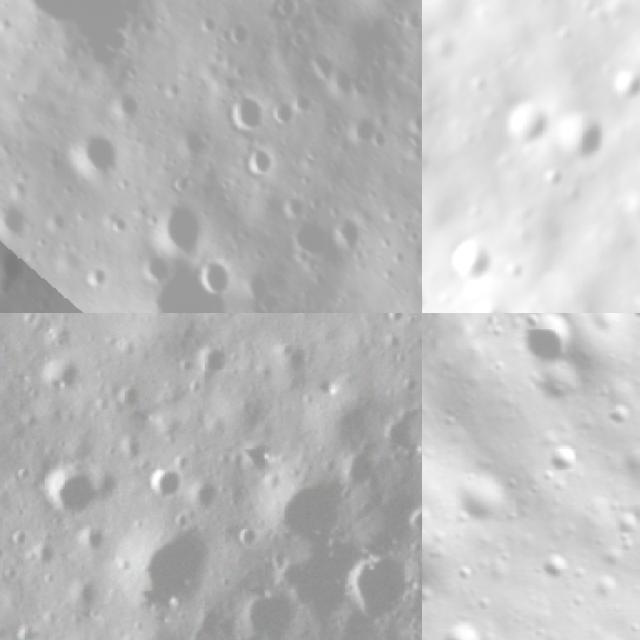crater: (0, 0, 176, 76), (112, 512, 226, 626), (257, 459, 358, 554), (270, 541, 360, 624), (343, 541, 422, 630), (439, 457, 516, 545), (34, 454, 106, 533), (146, 192, 218, 267), (504, 313, 587, 374), (549, 104, 616, 166), (239, 585, 308, 640), (57, 125, 123, 182), (276, 210, 336, 269), (438, 234, 496, 292), (501, 90, 556, 150), (526, 536, 582, 594), (530, 430, 586, 488), (34, 351, 89, 402), (216, 93, 274, 141), (0, 246, 53, 290), (188, 338, 236, 386), (62, 570, 110, 618), (194, 252, 236, 306), (345, 109, 390, 154), (146, 461, 188, 509), (239, 140, 279, 189), (24, 530, 65, 574), (604, 61, 640, 110), (431, 612, 491, 640), (112, 90, 148, 130), (0, 195, 30, 241), (358, 0, 422, 21), (267, 95, 299, 136), (401, 502, 422, 545), (0, 121, 11, 170)
